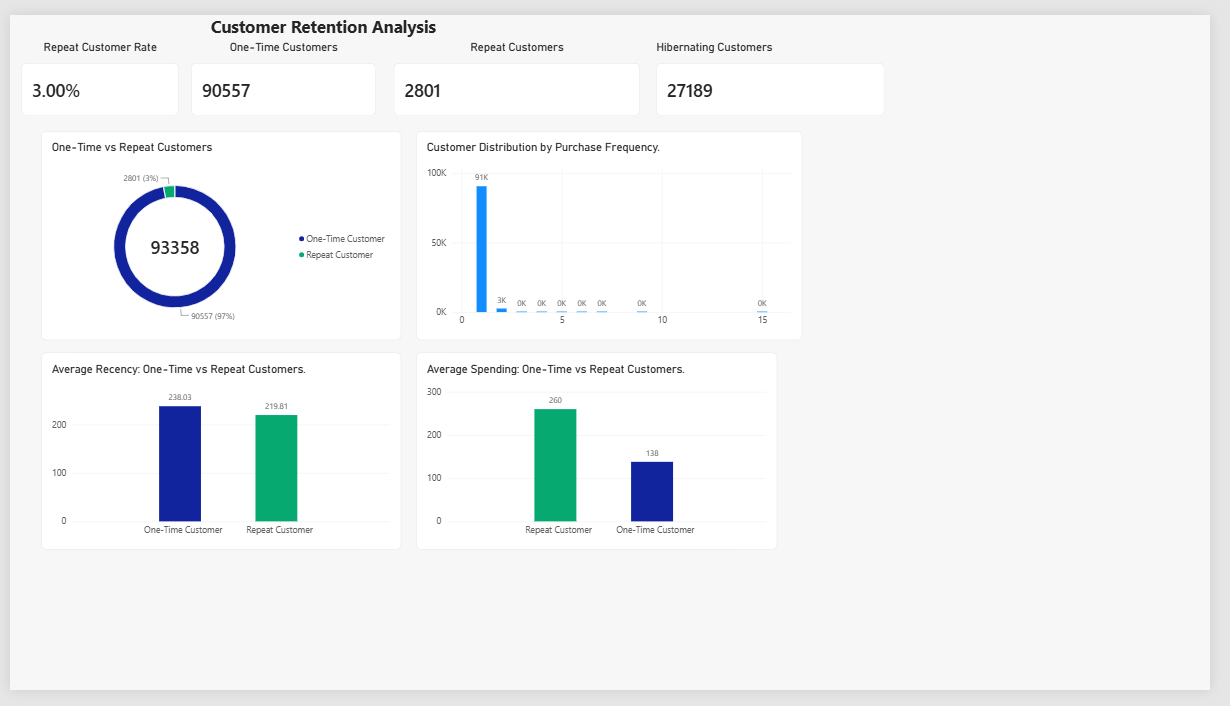

The dashboard page shown, as its layout file describes it:
{"tool":"powerbi","page":{"name":"Retention Analysis","canvas":[1920,1080],"ordinal":2},"visuals":[{"type":"textbox","box":[10,0,982.5,45.8],"z":0},{"type":"donutChart","title":"One-Time vs Repeat Customers","fields":{"Category":["olist_customer_segments.Purchase_Type"],"Y":["olist_customer_segments.Customer_Count"]},"box":[49.2,186.7,575.8,334.2],"z":1},{"type":"cardVisual","title":"Repeat Customer Rate","fields":{"Data":["olist_customer_segments.Repeat_Customer_Rate"]},"box":[17.5,39.2,252.5,121.7],"z":2},{"type":"cardVisual","title":"One-Time Customers","fields":{"Data":["olist_customer_segments.One_Time_Customers"]},"box":[290,39.2,295.8,121.7],"z":3},{"type":"cardVisual","title":"Repeat Customers","fields":{"Data":["olist_customer_segments.Repeat_Customer_Count"]},"box":[613.3,39.2,394.2,121.7],"z":4},{"type":"clusteredColumnChart","title":"Average Recency: One-Time vs Repeat Customers.","fields":{"Category":["olist_customer_segments.Purchase_Type"],"Y":["Avg(olist_customer_segments.recency)"]},"box":[50,540,575.8,315],"z":5},{"type":"clusteredColumnChart","title":"Average Spending: One-Time vs Repeat Customers.","fields":{"Category":["olist_customer_segments.Purchase_Type"],"Y":["Avg(olist_customer_segments.monetary)"]},"box":[650.8,540,577.5,315],"z":6},{"type":"clusteredColumnChart","title":"Customer Distribution by Purchase Frequency.","fields":{"Category":["olist_customer_segments.frequency"],"Y":["olist_customer_segments.Customer_Count"]},"box":[650.8,186.7,617.5,334.2],"z":7},{"type":"cardVisual","title":"Hibernating Customers","fields":{"Data":["olist_customer_segments.Hibernating_Customers"]},"box":[1033.3,39.2,365.8,121.7],"z":8}]}

Visuals, with their boxes in screenshot pixels (x1, y1, x2, y2), scaled from the page's 1920x1080 canvas onto the 1230x706 screenshot:
textbox: (6, 0, 636, 30)
"One-Time vs Repeat Customers" donutChart: (32, 122, 400, 341)
"Repeat Customer Rate" cardVisual: (11, 26, 173, 105)
"One-Time Customers" cardVisual: (186, 26, 375, 105)
"Repeat Customers" cardVisual: (393, 26, 645, 105)
"Average Recency: One-Time vs Repeat Customers." clusteredColumnChart: (32, 353, 401, 559)
"Average Spending: One-Time vs Repeat Customers." clusteredColumnChart: (417, 353, 787, 559)
"Customer Distribution by Purchase Frequency." clusteredColumnChart: (417, 122, 813, 341)
"Hibernating Customers" cardVisual: (662, 26, 896, 105)
